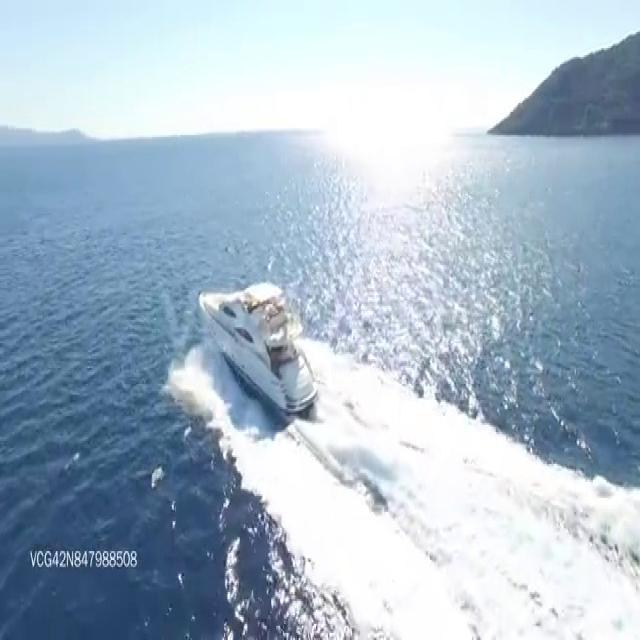houseboat: (196, 280, 317, 418)
